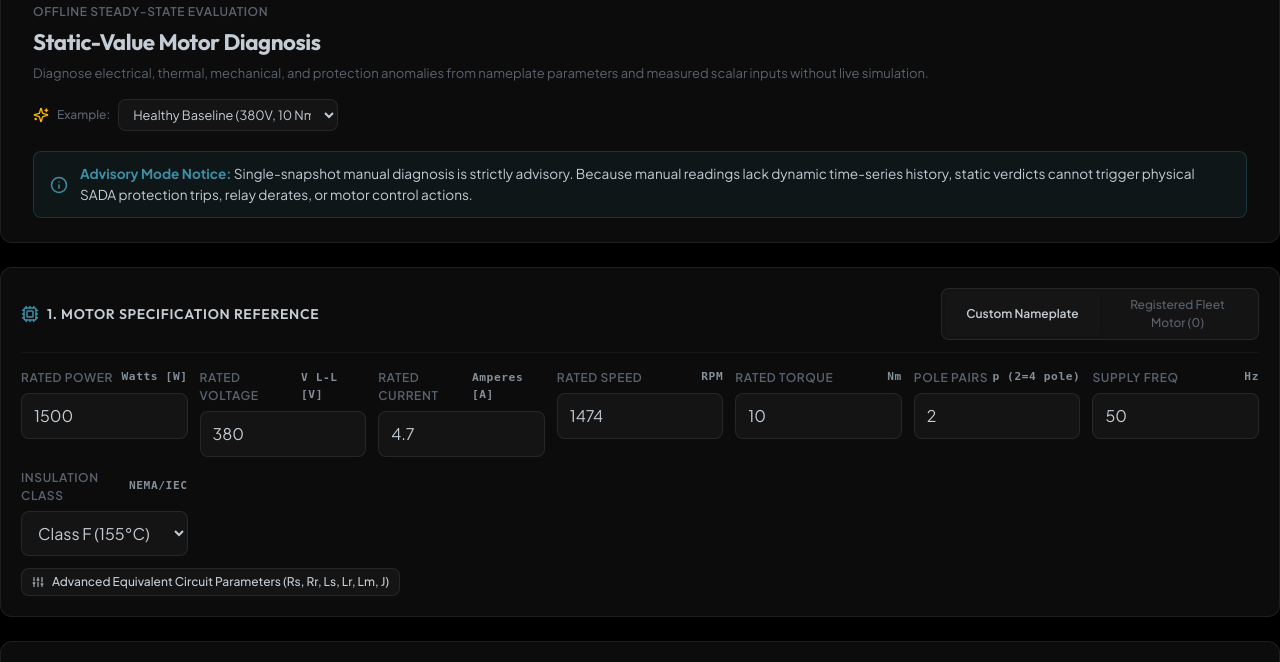
Test: StaticDiagnosisPanel › populates form fields when example preset is selected
The width and height of the screenshot is (1280, 662).
Step 1. Select "Stator Inter-Turn Short Circuit (ITSC)" in the dropdown named "Example Preset" → (228, 115), box [118, 99, 338, 131]
(page scrolled)
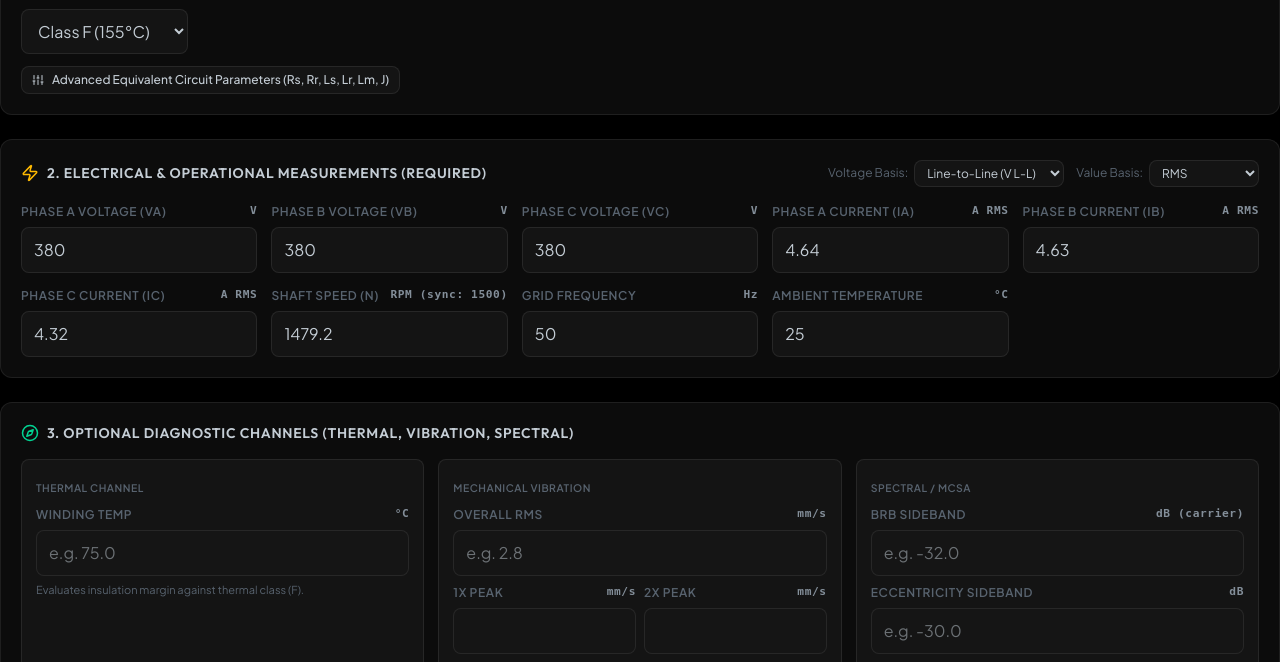
expect the number field named "Phase A Current" holds "4.64": met, box [772, 227, 1009, 273]
expect the number field named "Phase B Current" holds "4.63": met, box [1023, 227, 1259, 273]
expect the number field named "Phase C Current" holds "4.32": met, box [21, 311, 257, 357]
